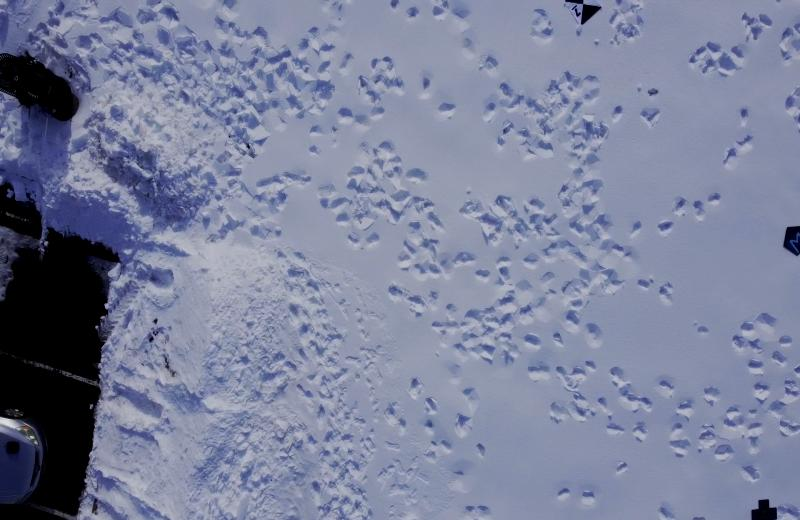Cross: (747, 496, 782, 520)
Pentagon: (780, 221, 800, 261)
